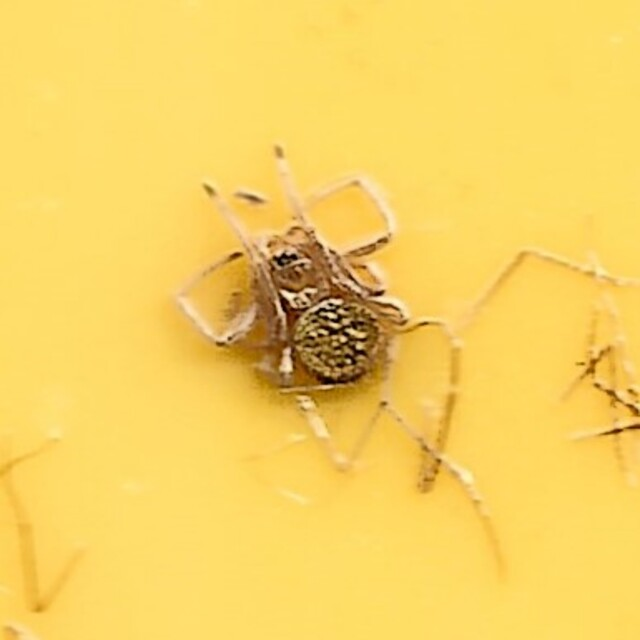Araneae: (166, 151, 474, 489)
